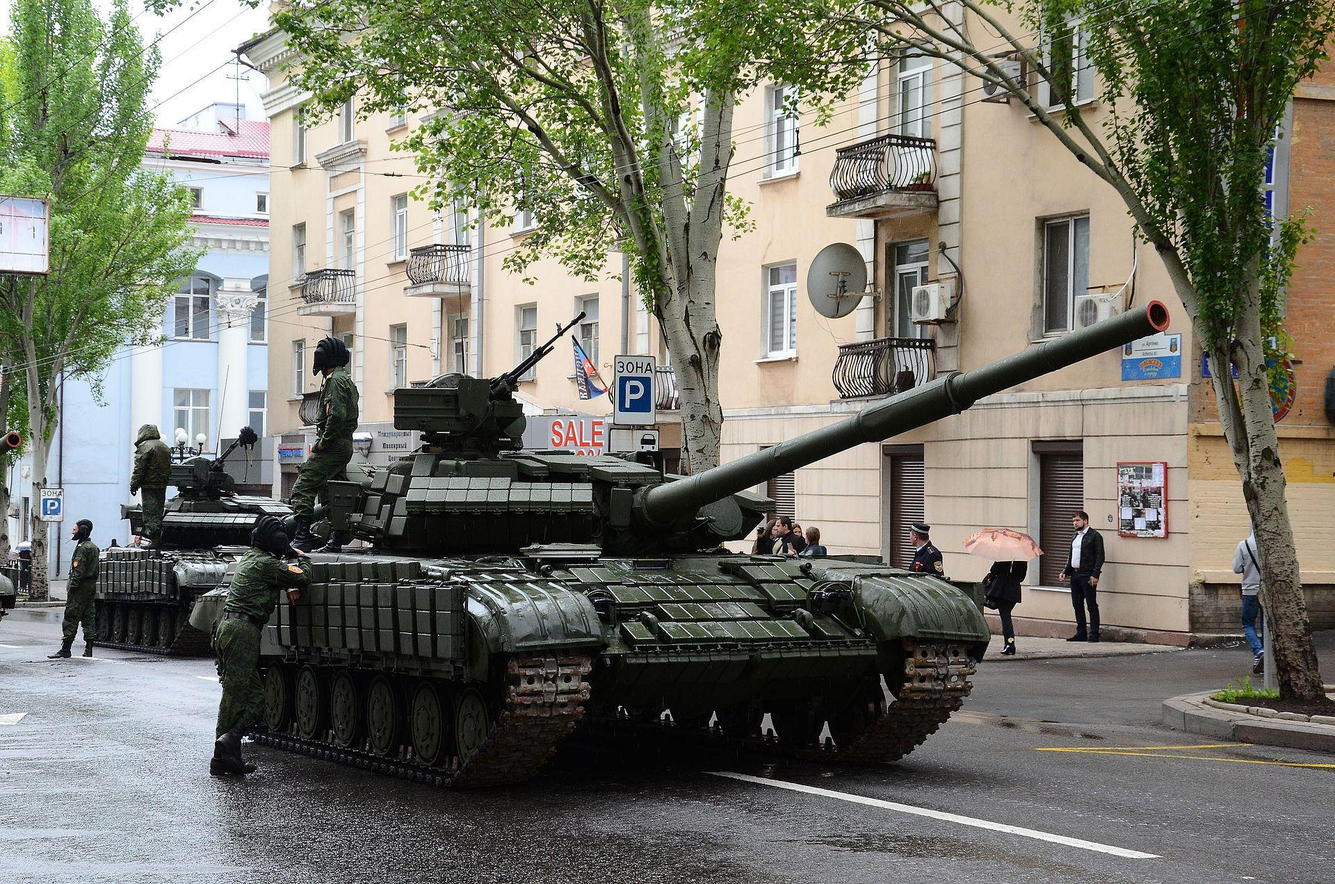tank: (194, 302, 1172, 810), (83, 453, 297, 662)
